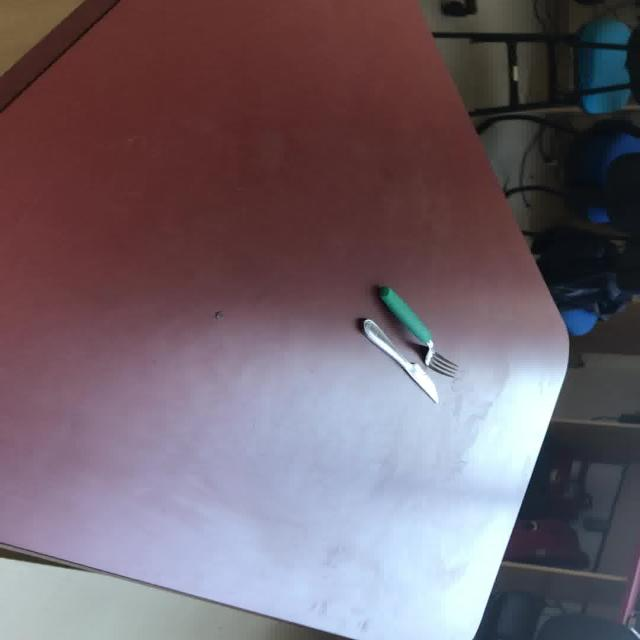fork: (375, 284, 458, 377)
knife fork: (358, 317, 438, 403)
